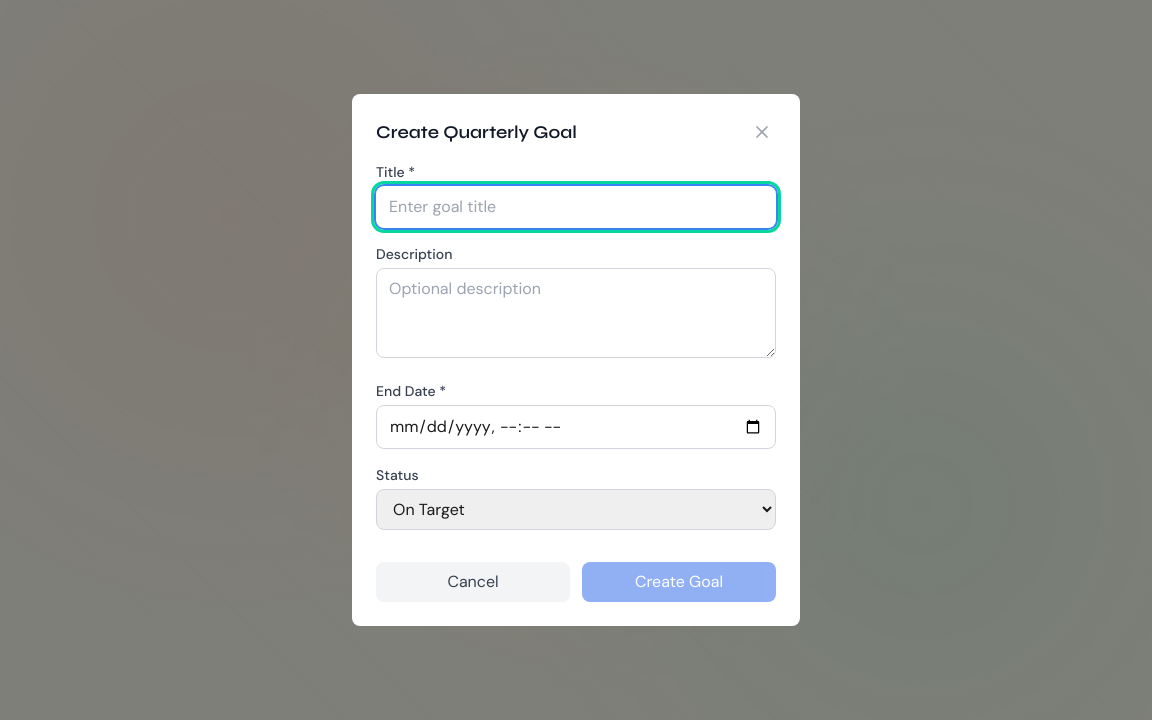
Scenario: GoalCreateModal › validates required fields
Expected: the button "Create Goal" is disabled, [582,562,776,602]
Fill in title but leave end date empty
In the field labelled "Title *": (576, 207) [376,186,776,228], type "Test Goal"
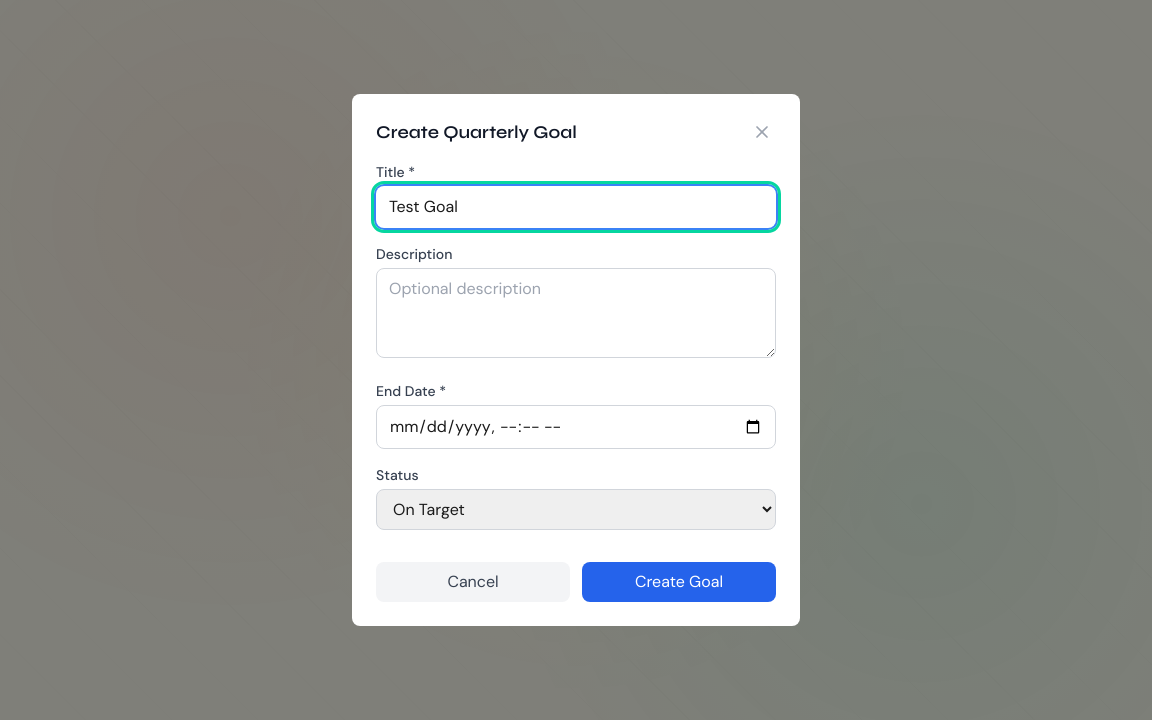
Expected: the button "Create Goal" is enabled
Try to submit without end date
Click the button "Create Goal": (679, 582) [582,562,776,602]
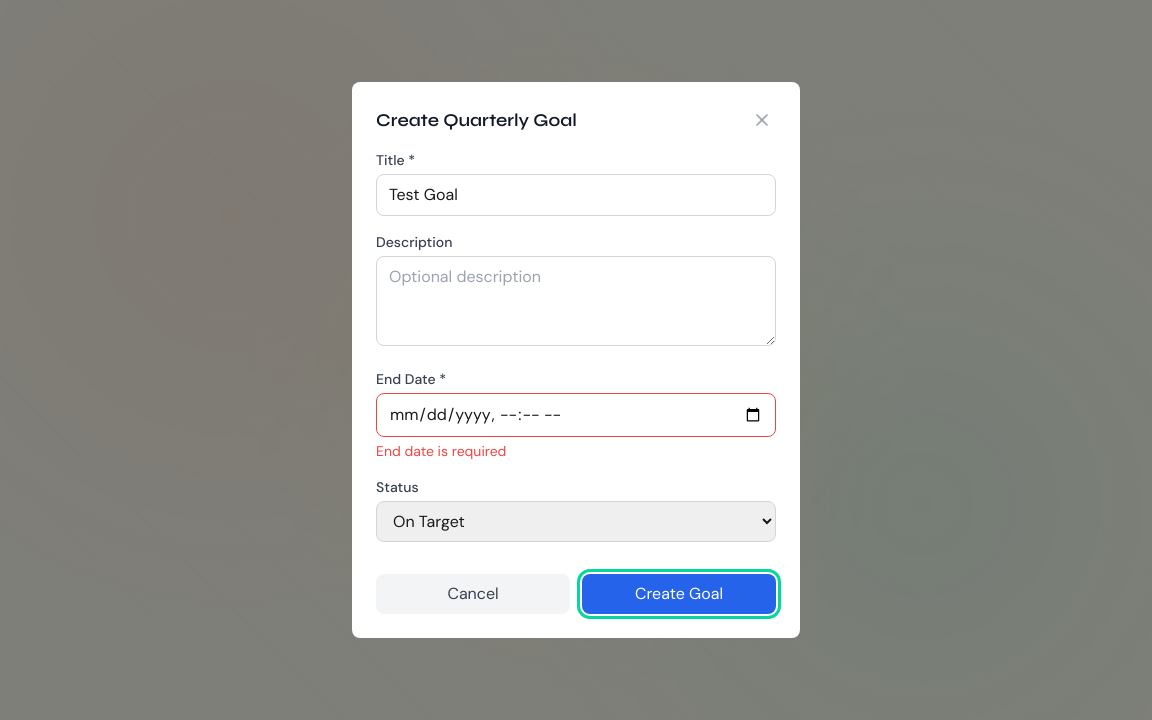
Expected: the text "End date is required" is shown, [376,442,506,460]
